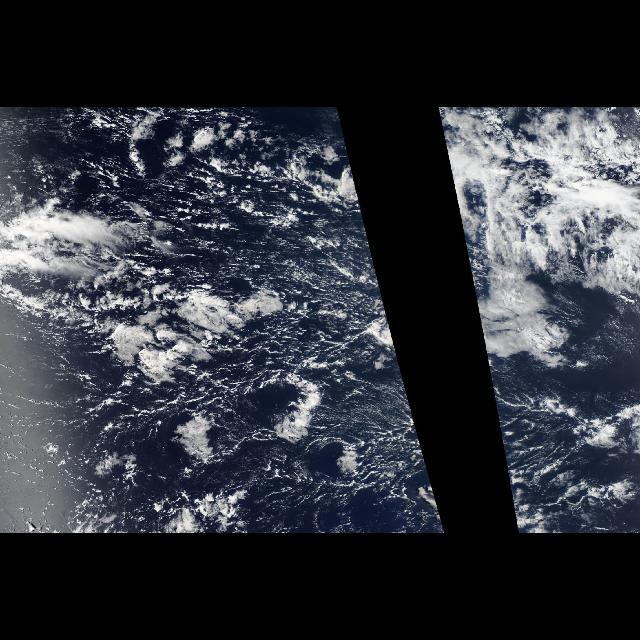Gravel: (181, 187, 437, 525)
